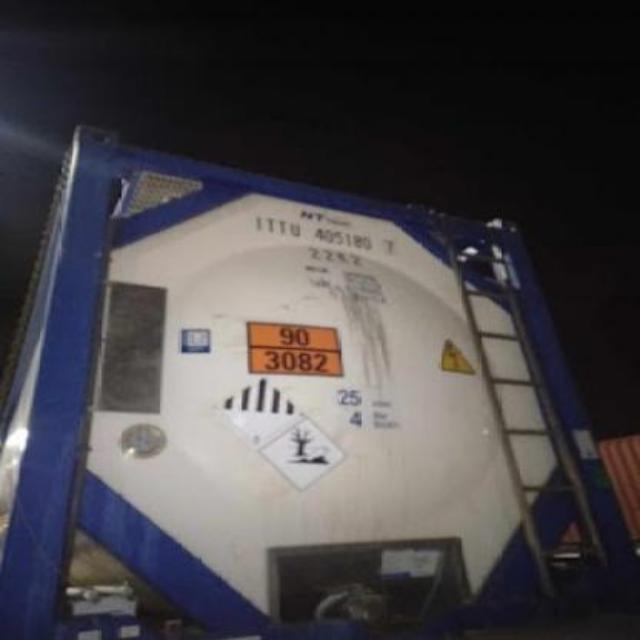0: (362, 222, 378, 254), (322, 223, 334, 249)
1: (344, 228, 352, 250)
4: (310, 213, 322, 243)
5: (334, 223, 344, 247)
7: (384, 232, 396, 260)
8: (354, 223, 364, 253)
I: (250, 210, 264, 234)
T: (276, 210, 290, 240), (264, 209, 276, 235)
U: (290, 217, 304, 241)
